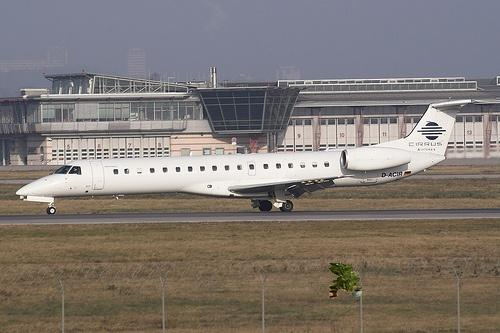tampered: (329, 264, 362, 299)
